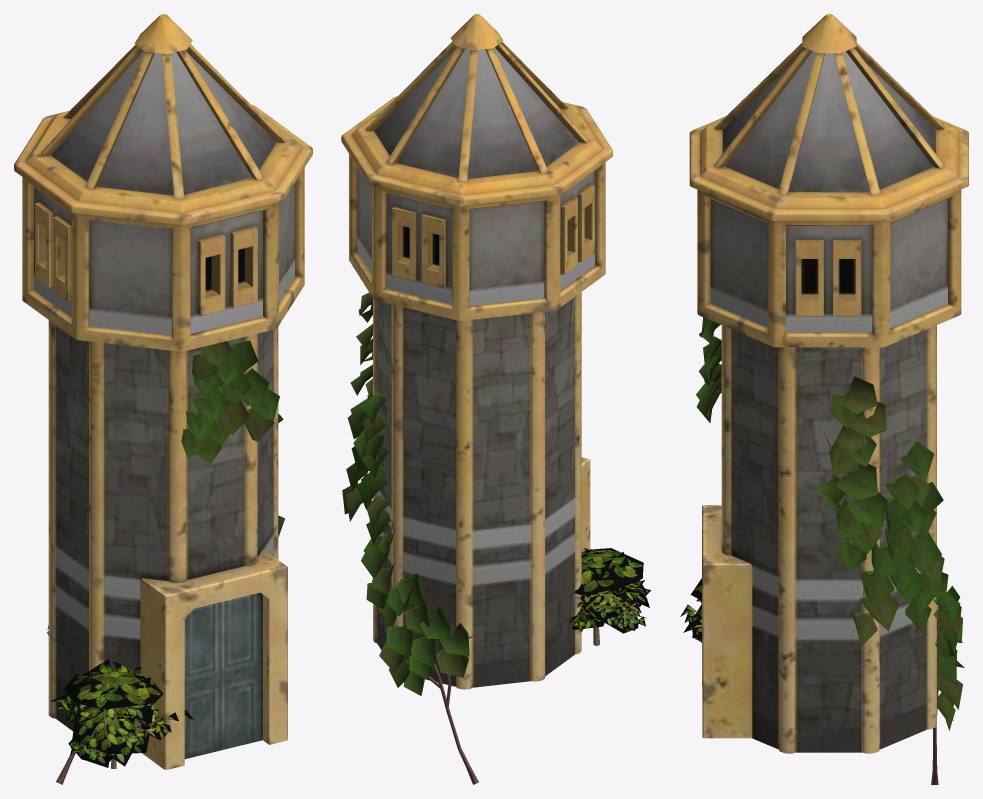
The model's file is 70-watchtower-watch_tower_a_age4.glb.
3 renders of one model, left to right at view 1: azimuth 30°, elevation 25°; view 2: azimuth 150°, elevation 25°; view 3: azimuth 270°, elevation 25°, orthographic. The views are drawn at different scales.
Size of the model in its own units: 3.05 by 8.39 by 2.76.
Materials: 5 (5 with a texture image).
